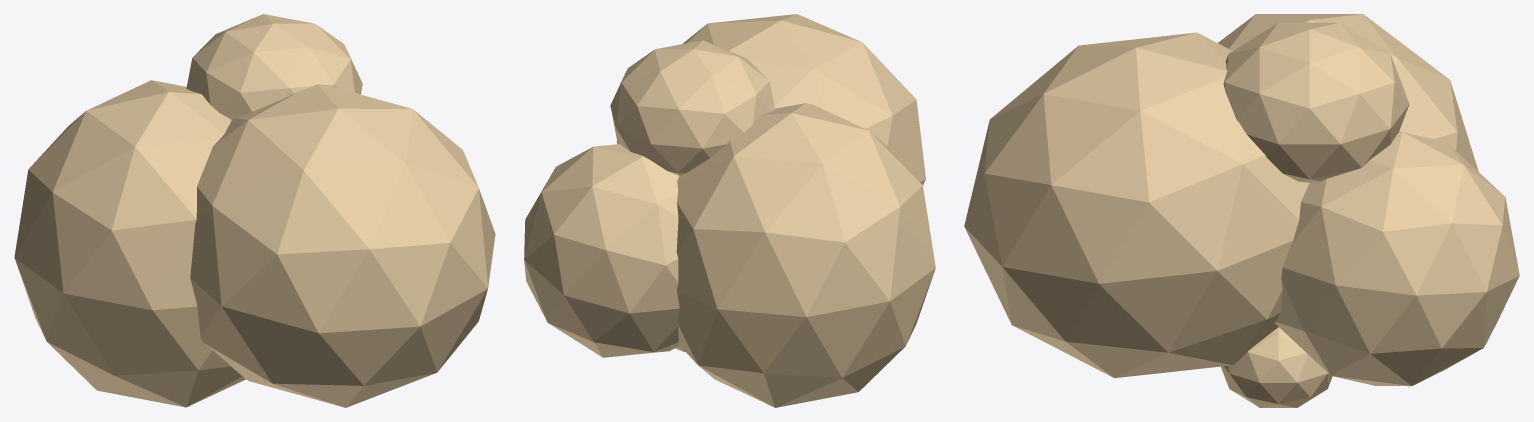
File: wool.fbx
3 views of the same model, side by side, from view 1: azimuth 30°, elevation 25°; view 2: azimuth 150°, elevation 25°; view 3: azimuth 270°, elevation 25° (orthographic). The views are drawn at different scales.
Parts seen in each view (by area): view 1: Icosphere.004; view 2: Icosphere.004; view 3: Icosphere.004.
Boxes of the visible parts, x1,y1,x2,y2 form: Icosphere.004: (14, 14, 495, 407); Icosphere.004: (524, 14, 935, 407); Icosphere.004: (964, 14, 1519, 407).
Size of the model in its own units: 252 by 228 by 302.
